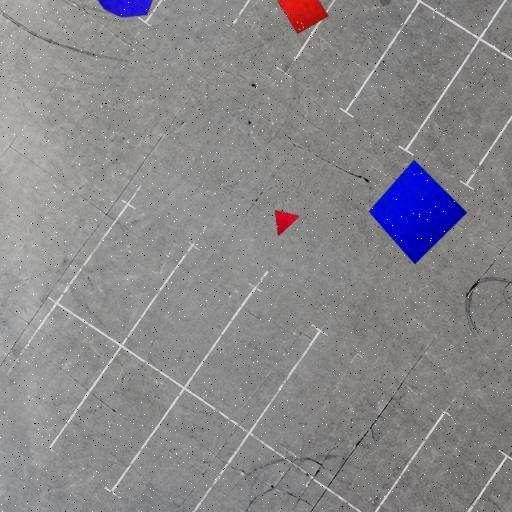BLUE_SQUARE: (368, 159, 468, 265)
RED_SQUARE: (277, 0, 329, 34)
